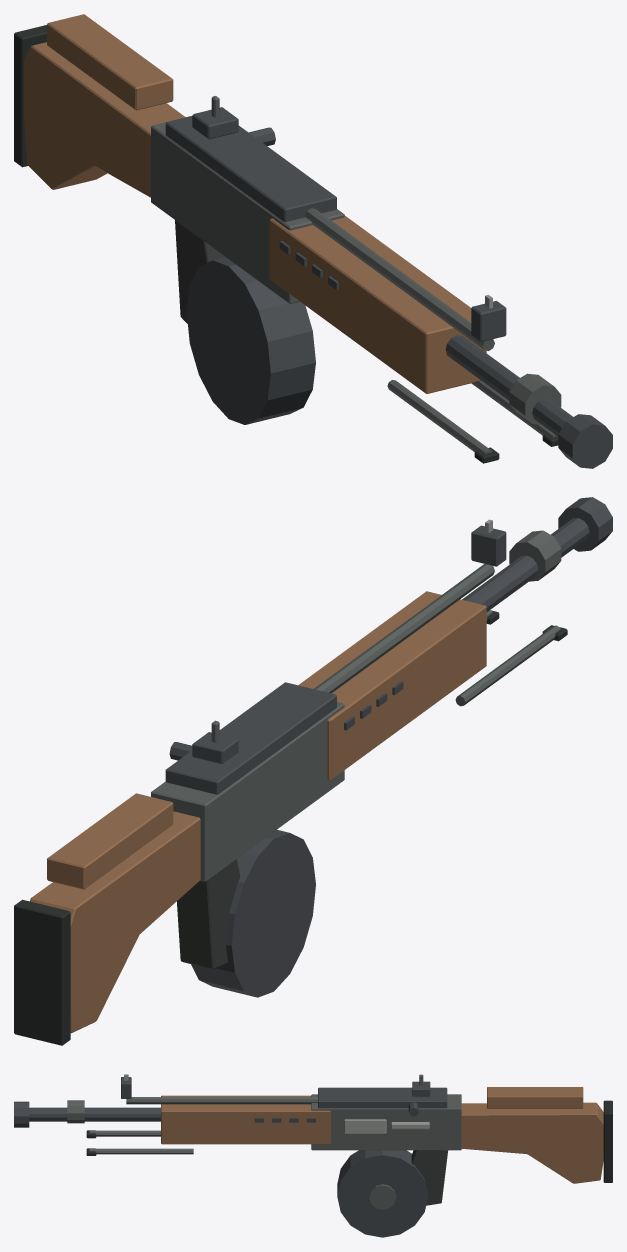
The model's file is rpk.glb.
3 views of the same model, one above another, from view 1: azimuth 30°, elevation 25°; view 2: azimuth 150°, elevation 25°; view 3: azimuth 270°, elevation 25° (orthographic). The views are drawn at different scales.
Parts seen in each view (by area): view 1: RPK_Firearm; view 2: RPK_Firearm; view 3: RPK_Firearm.
Part boxes in pixels (box(x1,y1,x2,y2)): RPK_Firearm: box(14, 14, 612, 468); RPK_Firearm: box(14, 497, 612, 1045); RPK_Firearm: box(14, 1074, 612, 1237).
Bounding box in the file's own units: 0.115 × 0.3502 × 1.21.
